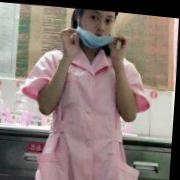WRONG: (79, 8, 117, 50)
